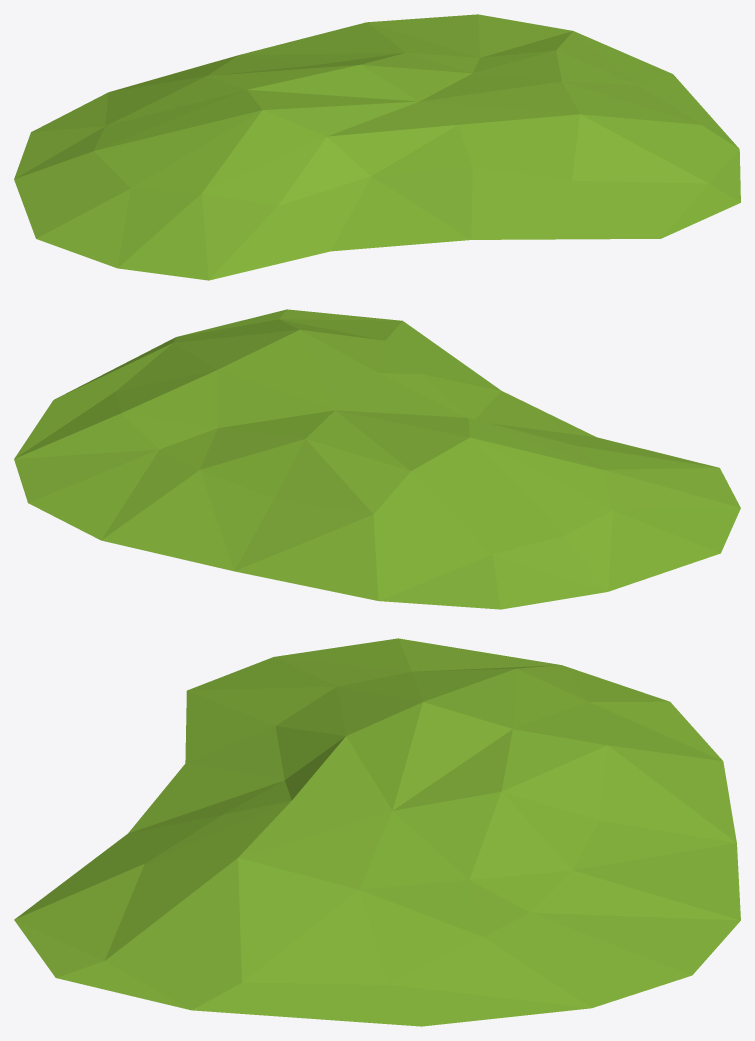
File: co_Hillock_A_01.fbx
3 views of the same model, one above another, from view 1: azimuth 30°, elevation 25°; view 2: azimuth 150°, elevation 25°; view 3: azimuth 270°, elevation 25° (orthographic). The views are drawn at different scales.
Visible parts, largest first — view 1: Hillock_A_01; view 2: Hillock_A_01; view 3: Hillock_A_01.
Part boxes in pixels (bbox=[...]): Hillock_A_01: bbox=[14, 14, 740, 280]; Hillock_A_01: bbox=[14, 309, 740, 609]; Hillock_A_01: bbox=[14, 638, 740, 1026].
Bounding box in the file's own units: 14626 × 1376 × 11576.
